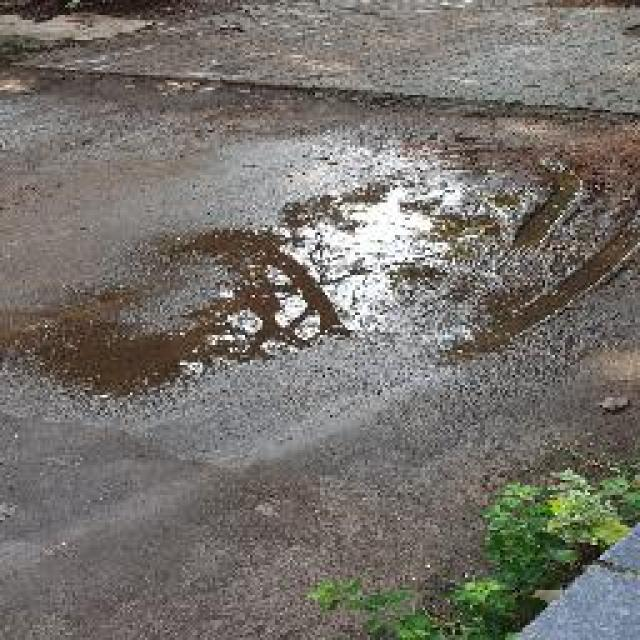stagnation: (0, 134, 640, 430)
